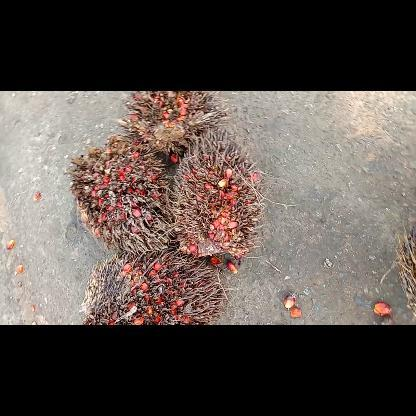Terlalu masak: (59, 130, 179, 260), (158, 123, 266, 261), (80, 248, 228, 324), (116, 91, 232, 167)
